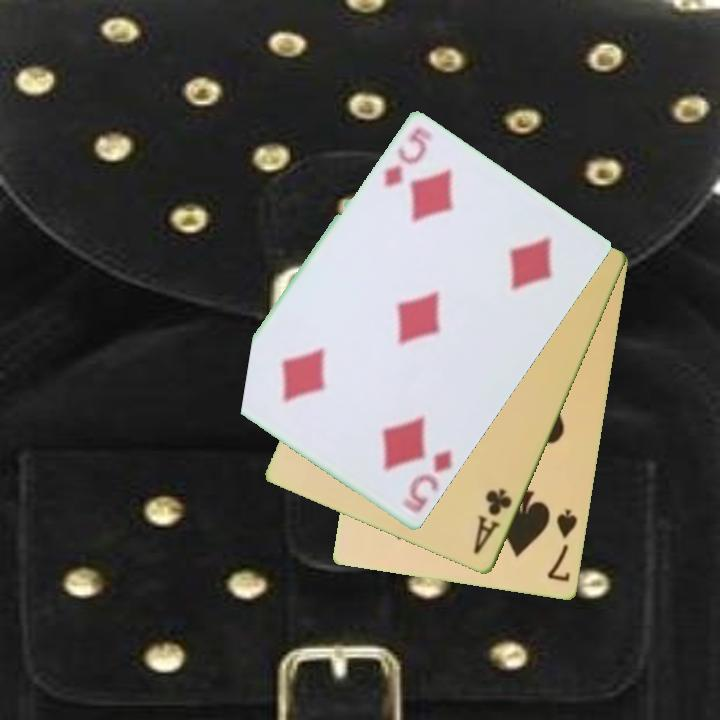5d: (399, 446, 456, 517), (380, 124, 429, 191)
7s: (544, 506, 581, 585)
Ac: (470, 485, 516, 558)
